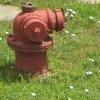a fire hydrant: (10, 9, 54, 70)
